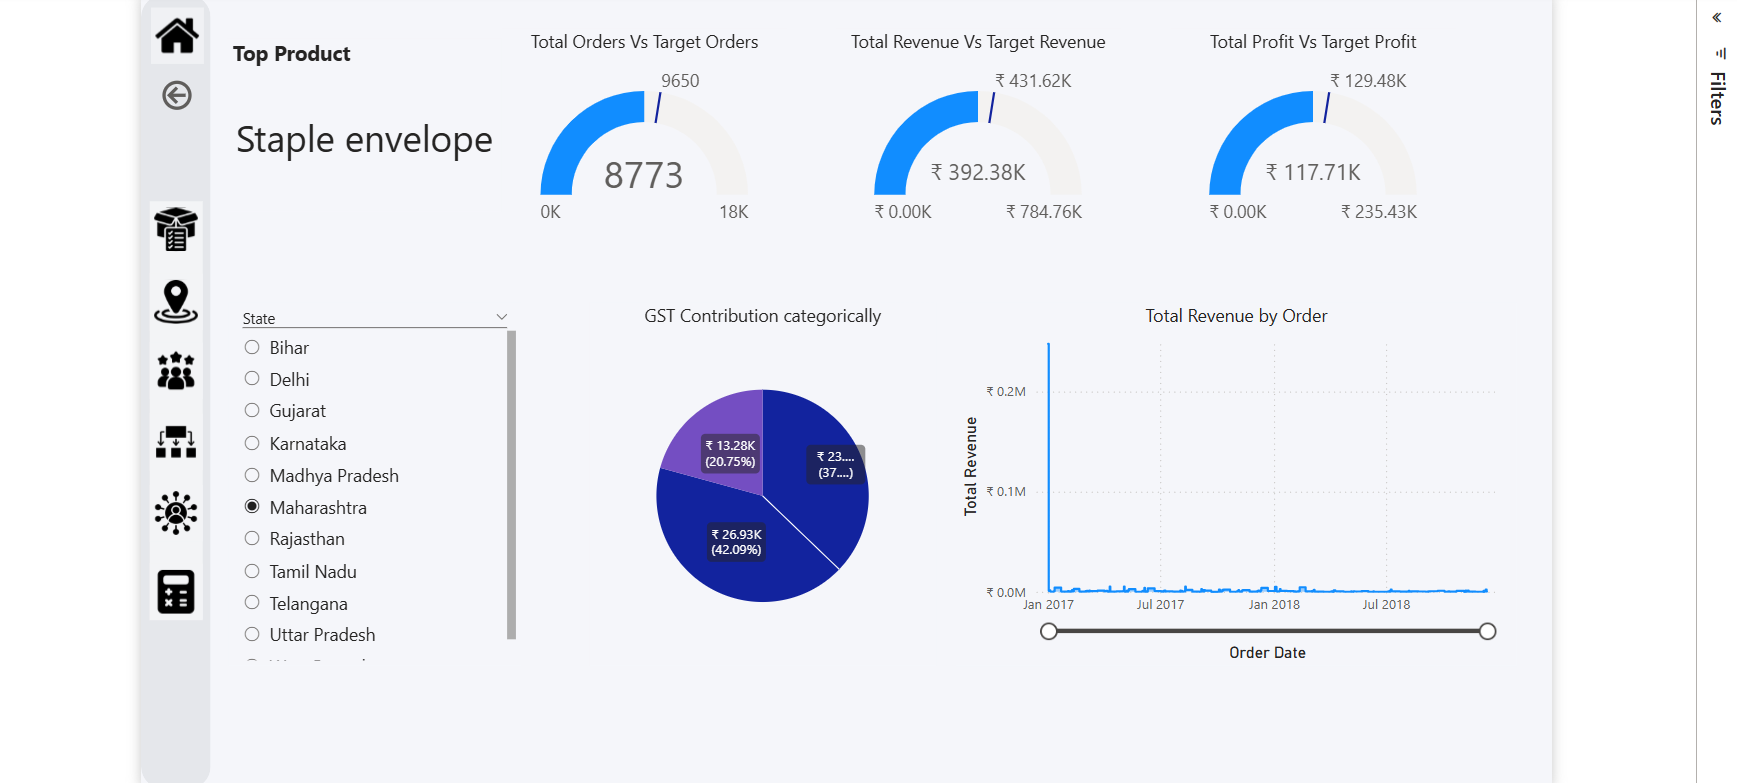

The page's visual inventory and layout, read from the dashboard file:
{"tool":"powerbi","page":{"name":"Product Details ","canvas":[1280,720],"ordinal":1},"visuals":[{"type":"shape","box":[0,0,63.2,720.2],"z":0},{"type":"actionButton","box":[7.9,315.3,47.6,51],"z":0,"group":"g1"},{"type":"gauge","title":"Total Orders Vs Target Orders","fields":{"Y":["Measure.Total Orders"],"TargetValue":["Measure.Target Orders"]},"box":[327.5,31,258,187.3],"z":1000},{"type":"actionButton","box":[7.9,252.9,47.6,51],"z":1000,"group":"g1"},{"type":"gauge","title":"Total Profit Vs Target Profit","fields":{"Y":["Measure.Profit"],"TargetValue":["Measure.Target Profit"]},"box":[934.1,31,258,187.3],"z":2000},{"type":"actionButton","box":[7.9,187.1,47.6,51],"z":2000,"group":"g1"},{"type":"gauge","title":"Total Revenue Vs Target Revenue ","fields":{"Y":["Measure.Total Revenue"],"TargetValue":["Measure.Target  Revenue"]},"box":[630.8,31,258,187.3],"z":3000},{"type":"actionButton","box":[7.9,379.9,47.6,51],"z":3000,"group":"g1"},{"type":"pieChart","title":"GST Contribution categorically","fields":{"Category":["india_superstore_clean_final.GST Rate %"],"Y":["Sum(india_superstore_clean_final.GST Amount)"],"Series":["india_superstore_clean_final.Category"]},"box":[406.7,279.2,314,329.7],"z":4000},{"type":"actionButton","box":[7.9,444.6,47.6,51],"z":4000,"group":"g1"},{"type":"slicer","fields":{"Values":["india_superstore_clean_final.State"]},"box":[79.4,279.2,265.9,329.7],"z":5000},{"type":"actionButton","box":[7.9,516,47.6,51],"z":5000,"group":"g1"},{"type":"areaChart","title":"Total Revenue by Order ","fields":{"Y":["Measure.Total Revenue"],"Category":["india_superstore_clean_final.Order Date.Variation.Date Hierarchy.Year"]},"box":[740,279.2,509,329.7],"z":6000},{"type":"card","title":"Top Product","fields":{"Values":["Measure.Top Product"]},"box":[78.2,39.7,249.1,156.4],"z":7000},{"type":"actionButton","box":[14.5,71.5,35.9,39.7],"z":8000},{"type":"group","id":"g1","title":"Group 1","box":[7.9,187.1,47.6,380],"z":9001},{"type":"actionButton","box":[9.1,11.3,47.6,51],"z":9002}]}

Visuals, with their boxes on the page's 1280x720 design canvas (x1, y1, x2, y2). These are canvas units, not pixel positions in the 1737x783 screenshot, which may show the page scaled, cropped or inside an application window:
shape: crop(0, 0, 63, 720)
actionButton: crop(8, 315, 56, 366)
"Total Orders Vs Target Orders" gauge: crop(328, 31, 586, 218)
actionButton: crop(8, 253, 56, 304)
"Total Profit Vs Target Profit" gauge: crop(934, 31, 1192, 218)
actionButton: crop(8, 187, 56, 238)
"Total Revenue Vs Target Revenue " gauge: crop(631, 31, 889, 218)
actionButton: crop(8, 380, 56, 431)
"GST Contribution categorically" pieChart: crop(407, 279, 721, 609)
actionButton: crop(8, 445, 56, 496)
slicer - india_superstore_clean_final.State: crop(79, 279, 345, 609)
actionButton: crop(8, 516, 56, 567)
"Total Revenue by Order " areaChart: crop(740, 279, 1249, 609)
"Top Product" card: crop(78, 40, 327, 196)
actionButton: crop(14, 72, 50, 111)
"Group 1" group: crop(8, 187, 56, 567)
actionButton: crop(9, 11, 57, 62)
